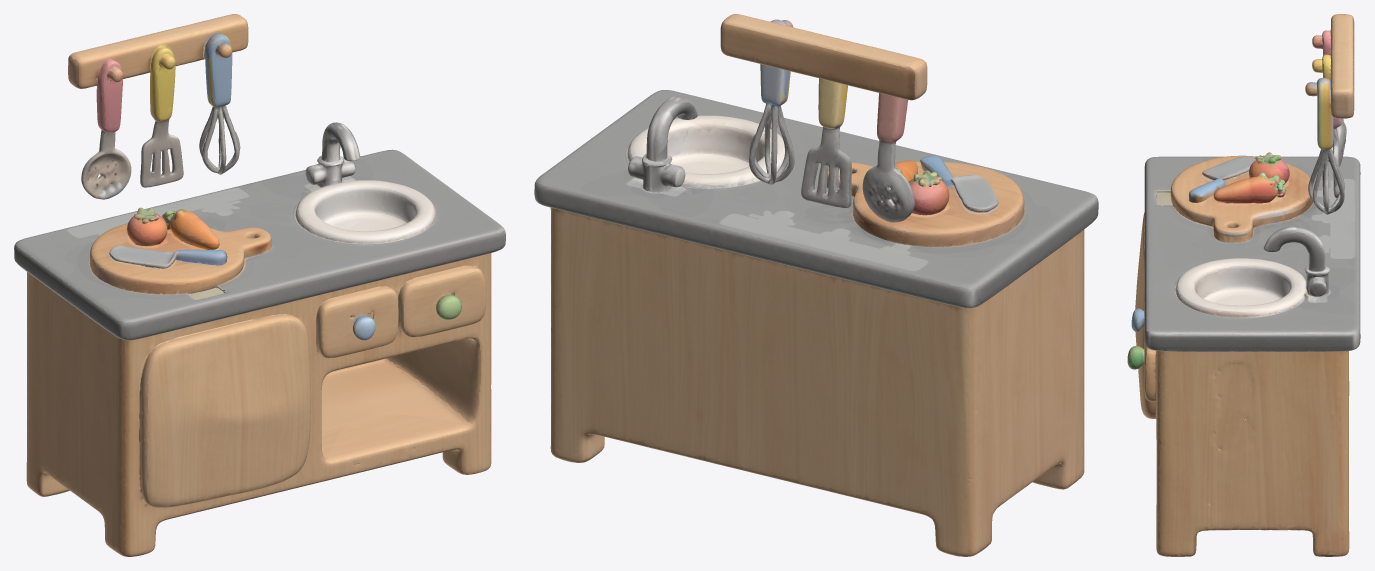
Rendered from fur_kitchen.glb.
The picture shows the model from 3 angles, left to right: view 1: azimuth 30°, elevation 25°; view 2: azimuth 150°, elevation 25°; view 3: azimuth 270°, elevation 25°; orthographic projection. The views are drawn at different scales.
Visible parts, largest first — view 1: geometry_0; view 2: geometry_0; view 3: geometry_0.
Boxes of the visible parts, left/top/right/bottom form: geometry_0: left=14, top=14, right=505, bottom=556; geometry_0: left=534, top=14, right=1098, bottom=556; geometry_0: left=1127, top=14, right=1360, bottom=556.
Bounding box in the file's own units: 0.6 × 0.6231 × 0.3306.
1 material, 1 textured.
